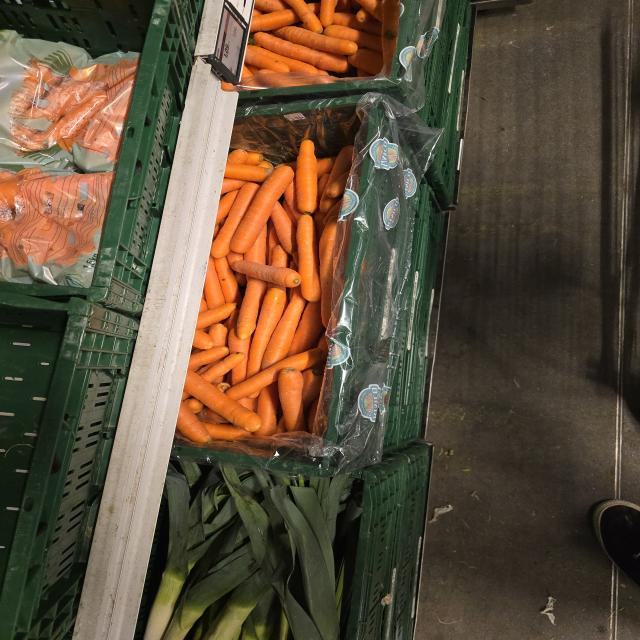Carrot: (230, 165, 294, 253), (226, 348, 327, 400), (184, 367, 262, 432), (253, 32, 350, 73), (246, 285, 287, 379), (211, 182, 260, 258), (273, 26, 357, 56), (244, 45, 315, 76), (296, 214, 320, 302), (230, 260, 301, 288), (236, 278, 267, 340), (278, 368, 306, 432), (295, 140, 317, 214), (201, 352, 244, 384), (189, 346, 230, 369)
